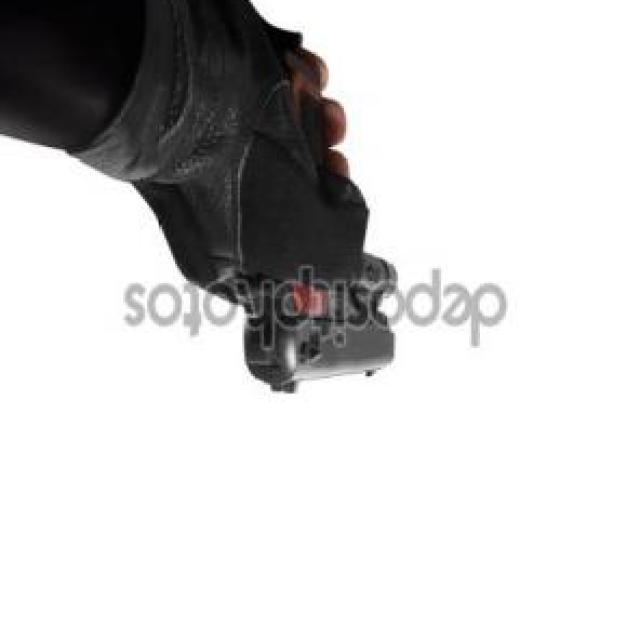pistol: (244, 48, 396, 394)
